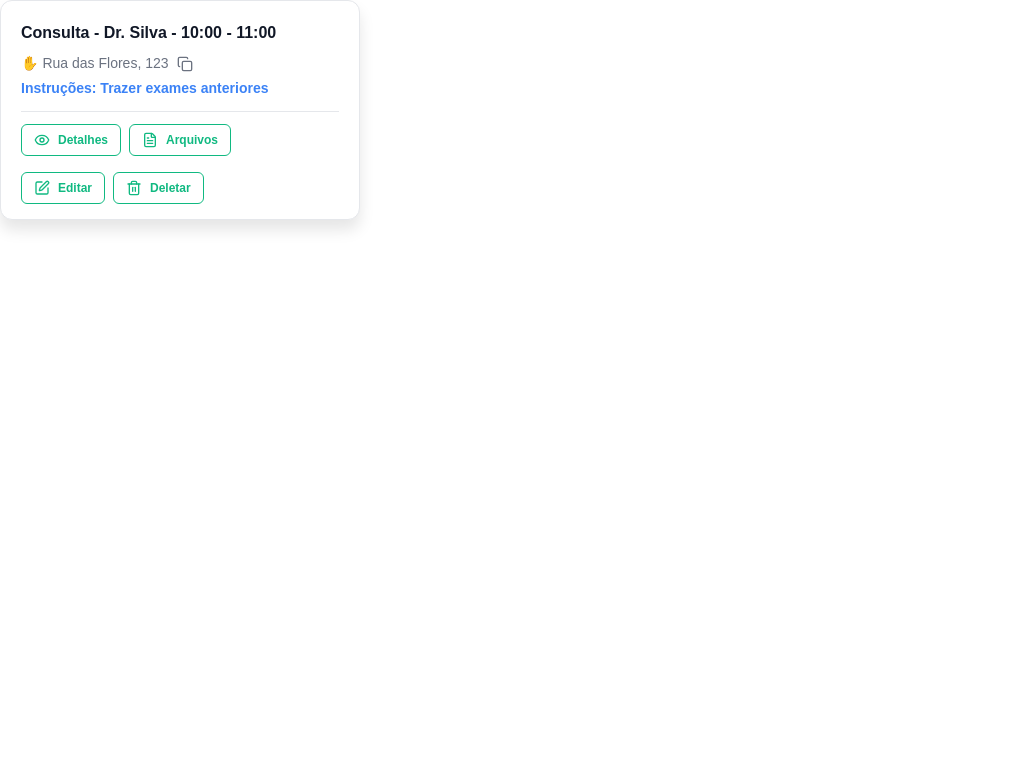
Test case: EventCard › opens view modal when details button is clicked
Click the button "Detalhes". click: (71, 140)
box: [21, 124, 121, 156]
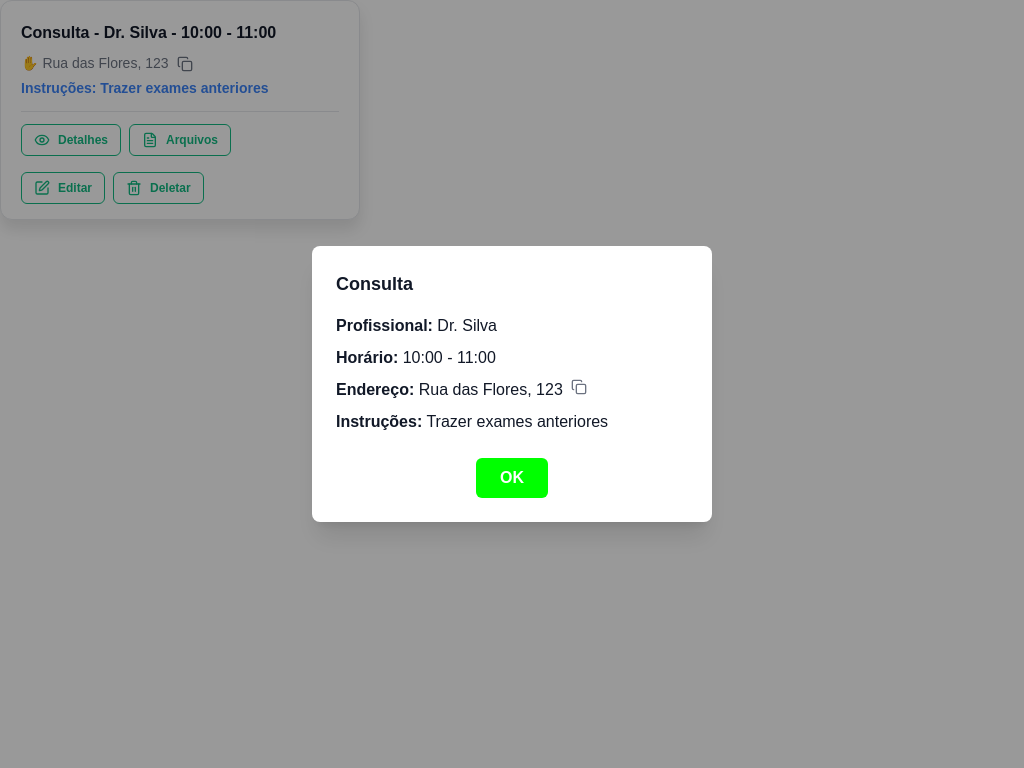
Check: the heading "Consulta" is shown, box [336, 274, 413, 294]
